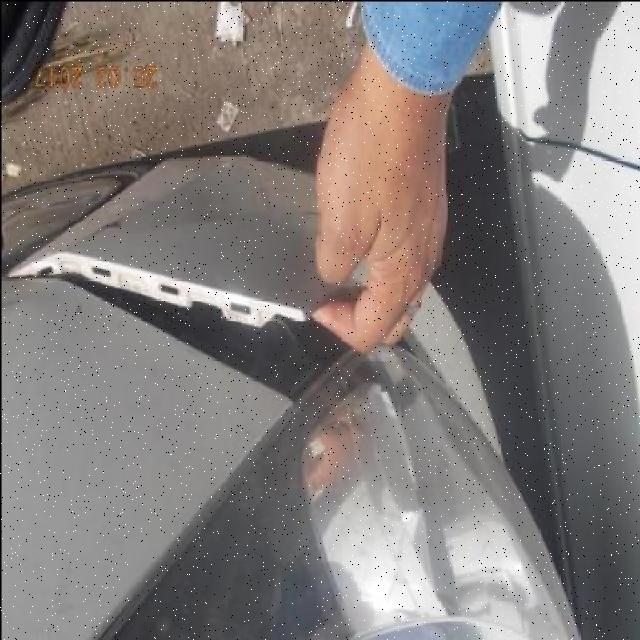damage: (4, 246, 353, 400)
